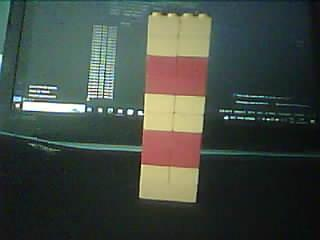lego: (138, 10, 211, 202)
